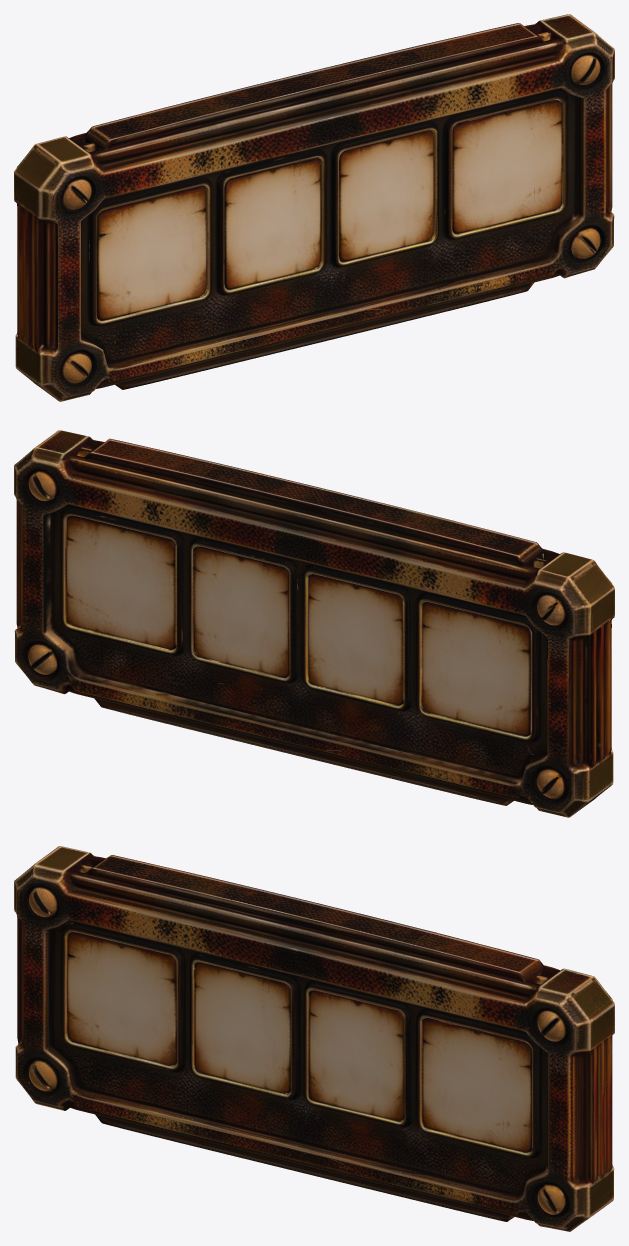
The model's file is animal_panel.glb.
3 views of the same model, one above another, from view 1: azimuth 30°, elevation 25°; view 2: azimuth 150°, elevation 25°; view 3: azimuth 330°, elevation 25° (orthographic).
Visible parts, largest first — view 1: Mesh_0; view 2: Mesh_0; view 3: Mesh_0.
Boxes of the visible parts, x1,y1,x2,y2 form: Mesh_0: [14, 14, 614, 401]; Mesh_0: [14, 430, 614, 817]; Mesh_0: [14, 846, 614, 1231].
Bounding box in the file's own units: 1.14 × 0.4806 × 0.1413.
1 material, 1 textured.
